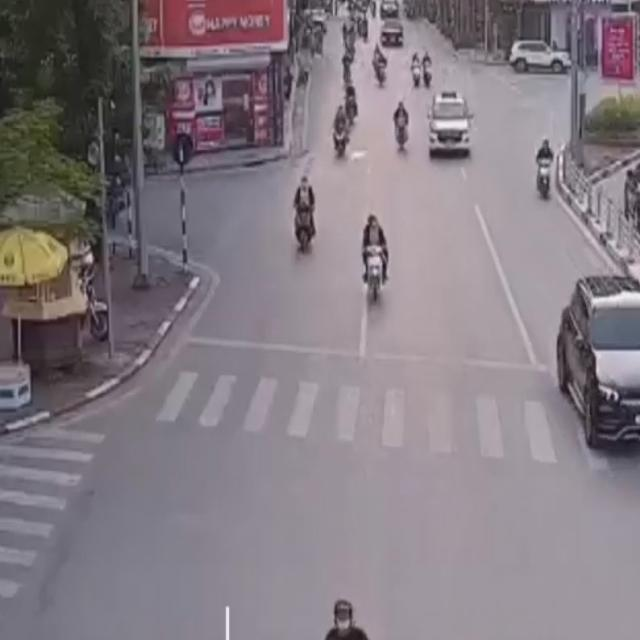car: (550, 272, 640, 455), (425, 88, 475, 164)
motorbike: (358, 214, 391, 307), (292, 173, 318, 255), (530, 132, 554, 202), (332, 105, 353, 163), (392, 99, 412, 152)
